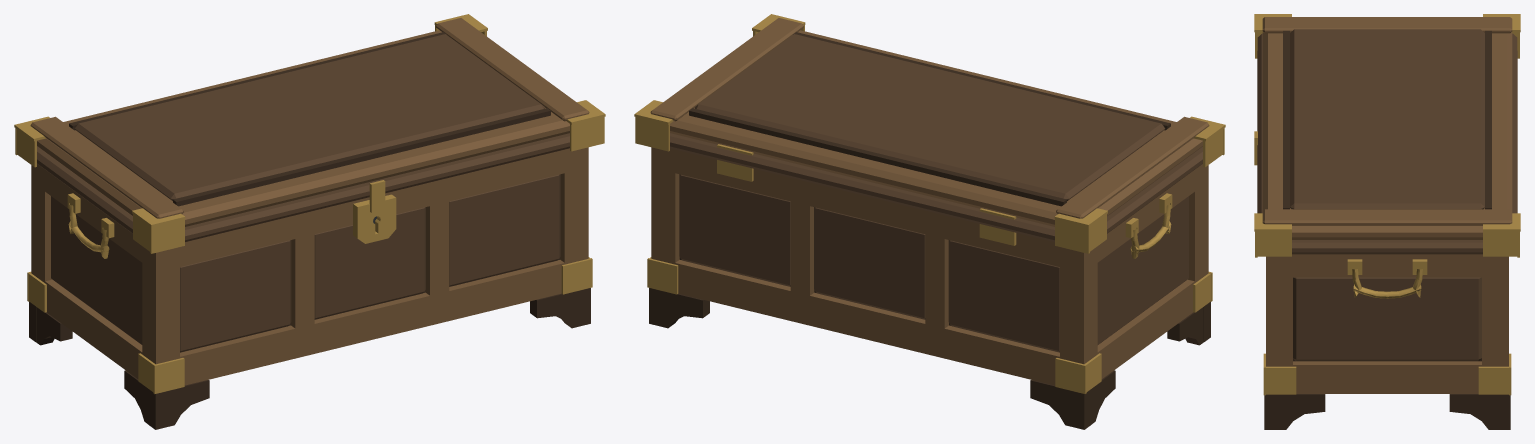
File: SM_LPD_Crate_ChestFlat_01.fbx
3 views of the same model, side by side, from view 1: azimuth 30°, elevation 25°; view 2: azimuth 150°, elevation 25°; view 3: azimuth 270°, elevation 25° (orthographic). The views are drawn at different scales.
Parts seen in each view (by area): view 1: SM_LPD_Crate_ChestFlat_01; view 2: SM_LPD_Crate_ChestFlat_01; view 3: SM_LPD_Crate_ChestFlat_01.
Part boxes in pixels (x1,y1,x2,y2): SM_LPD_Crate_ChestFlat_01: (14, 14, 605, 429); SM_LPD_Crate_ChestFlat_01: (634, 14, 1225, 429); SM_LPD_Crate_ChestFlat_01: (1254, 14, 1520, 429).
Size of the model in its own units: 1.18 by 0.536 by 0.614.
